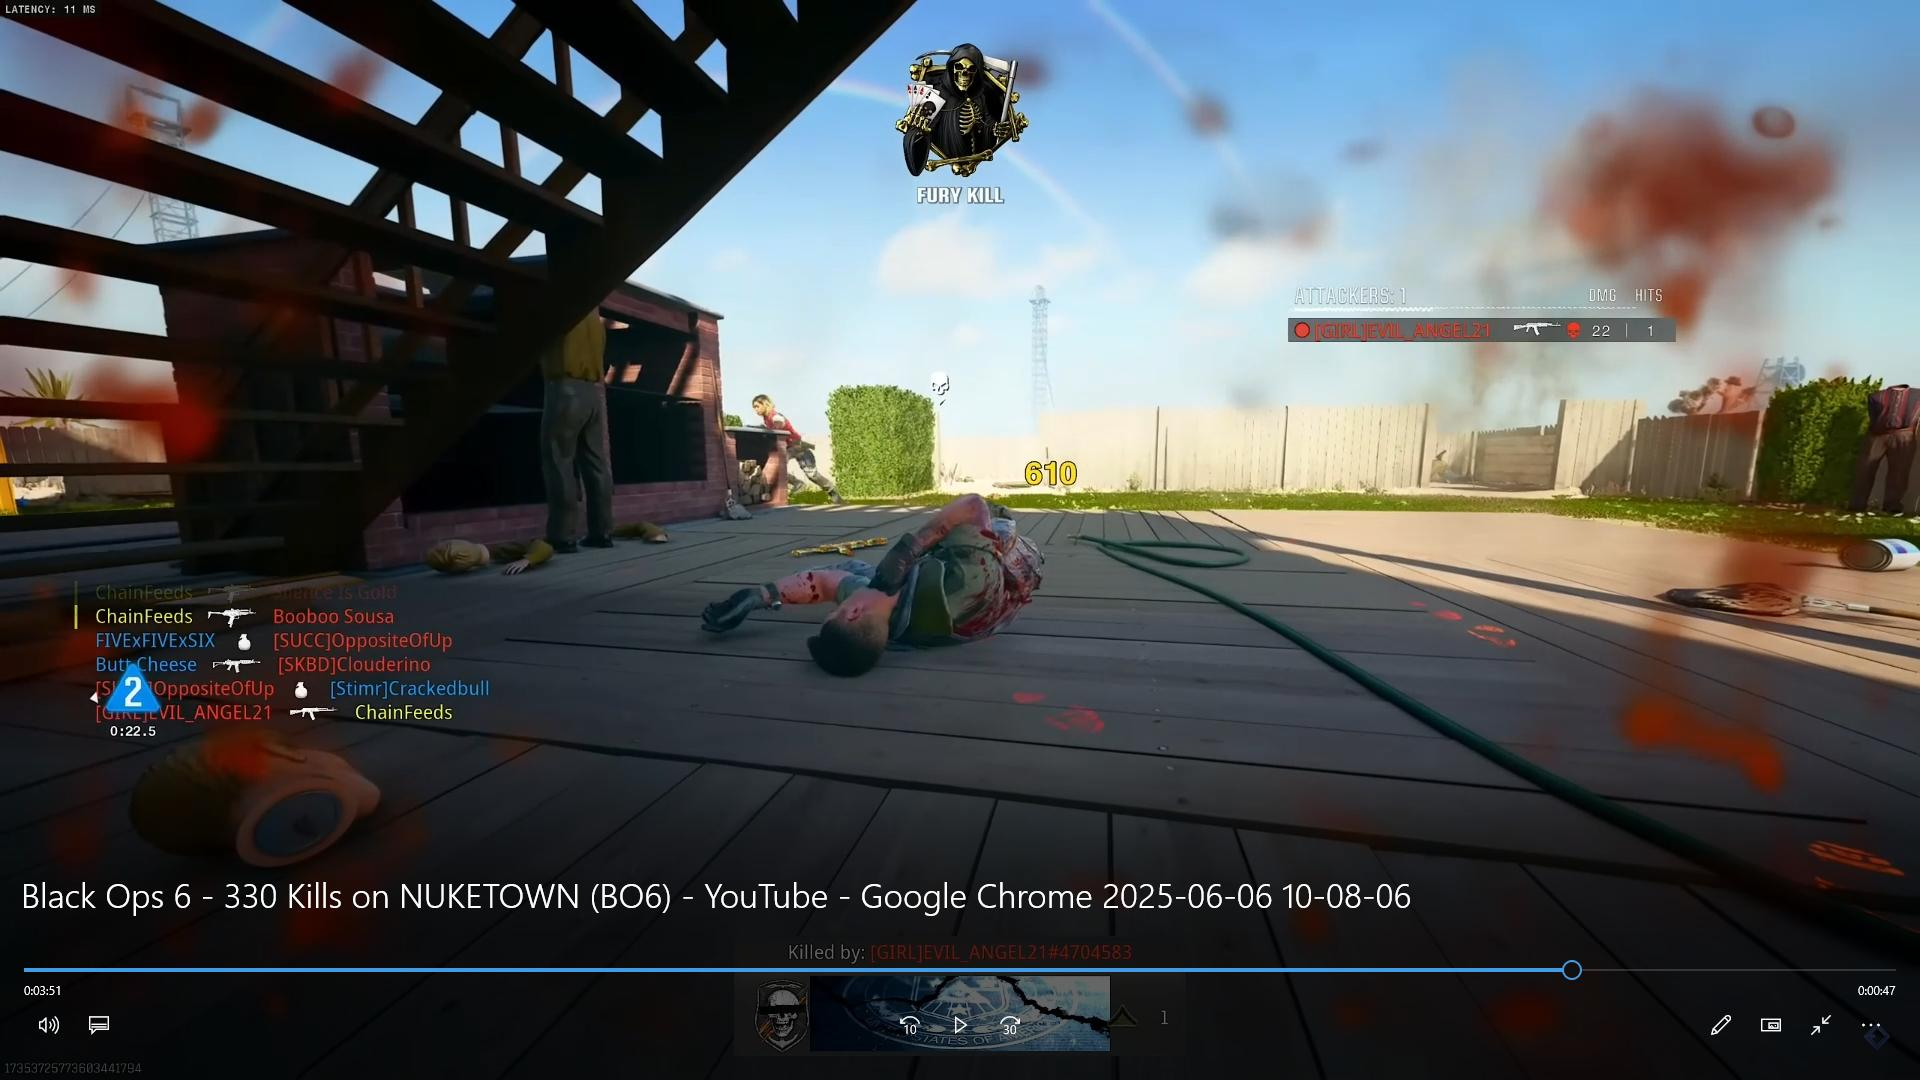Enemy: (741, 386, 791, 433)
